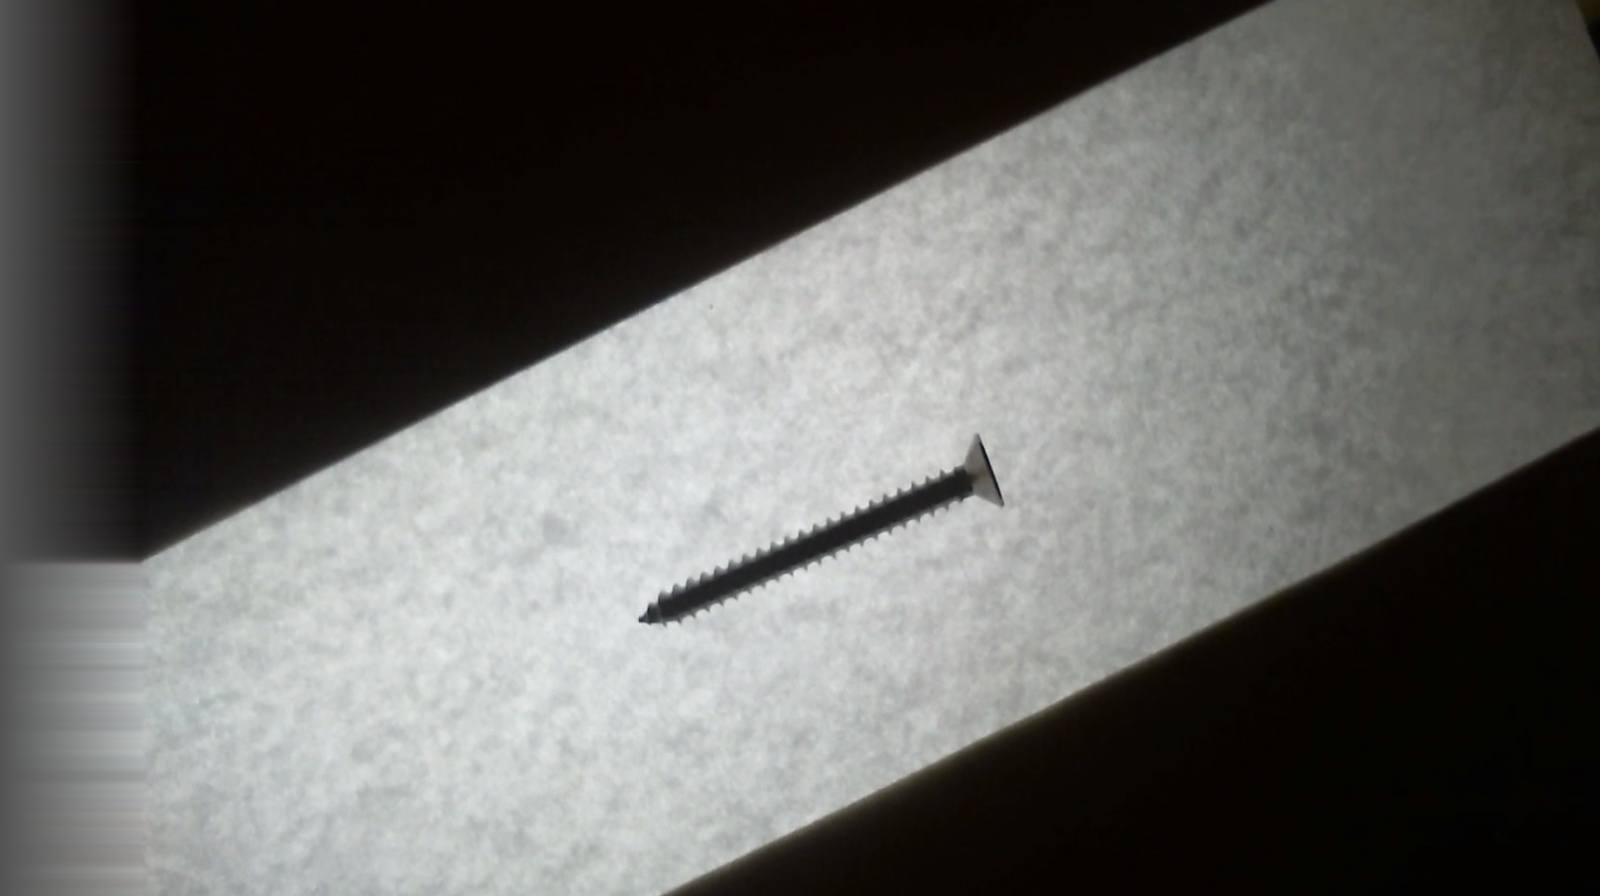S002: (627, 428, 1004, 635)
